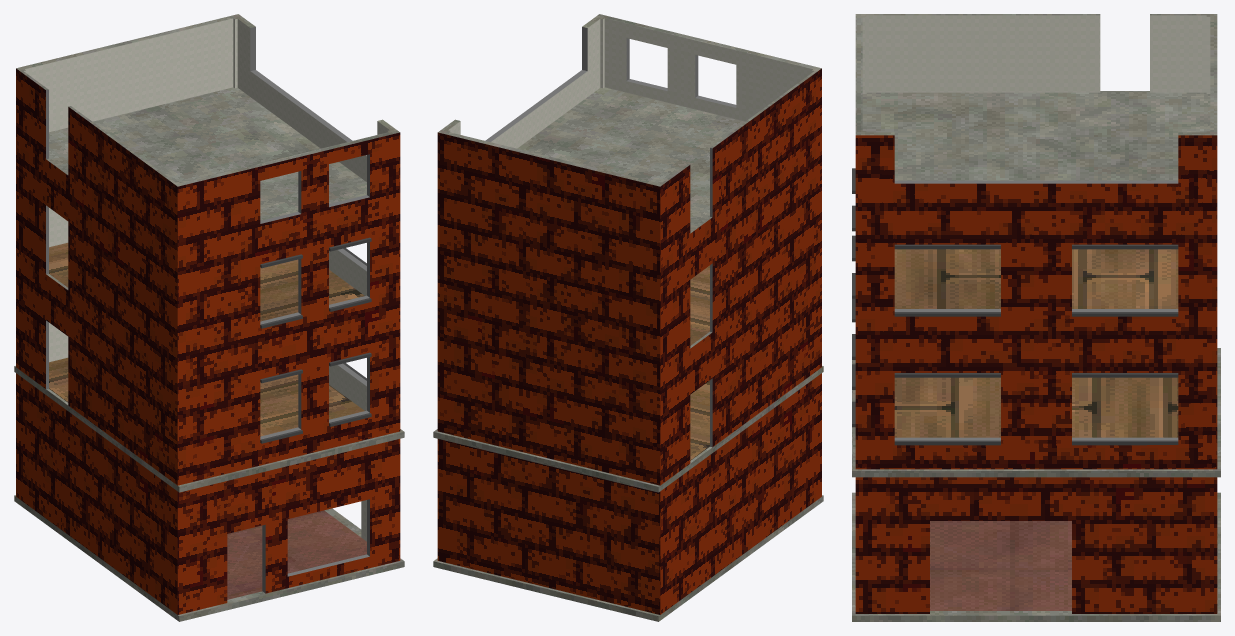
The model's file is travel_agency.glb.
3 views of the same model, side by side, from view 1: azimuth 30°, elevation 25°; view 2: azimuth 150°, elevation 25°; view 3: azimuth 270°, elevation 25° (orthographic). The views are drawn at different scales.
Visible parts, largest first — view 1: TravelAgency; view 2: TravelAgency; view 3: TravelAgency.
Part boxes in pixels (<box>): TravelAgency: <box>14,14,404,621</box>; TravelAgency: <box>433,14,823,621</box>; TravelAgency: <box>852,14,1220,621</box>.
Bounding box in the file's own units: 8.2 × 15.1 × 10.4.
7 materials, 5 textured.
